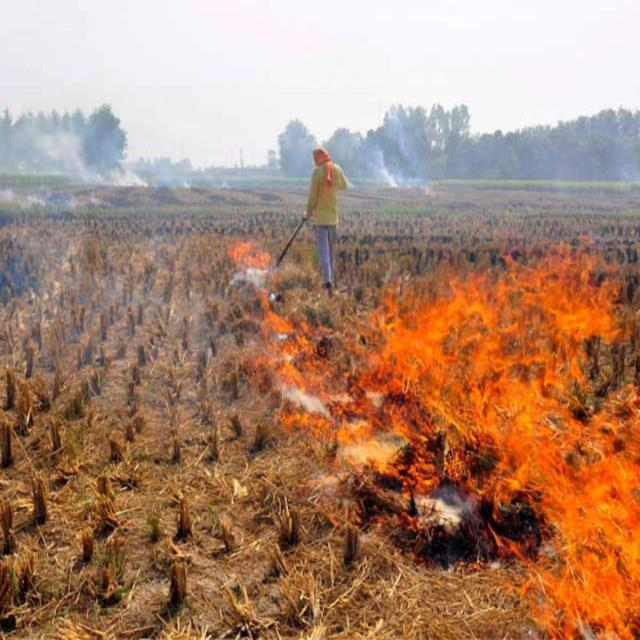fire: (364, 284, 532, 452), (537, 397, 640, 640), (540, 235, 616, 368)
